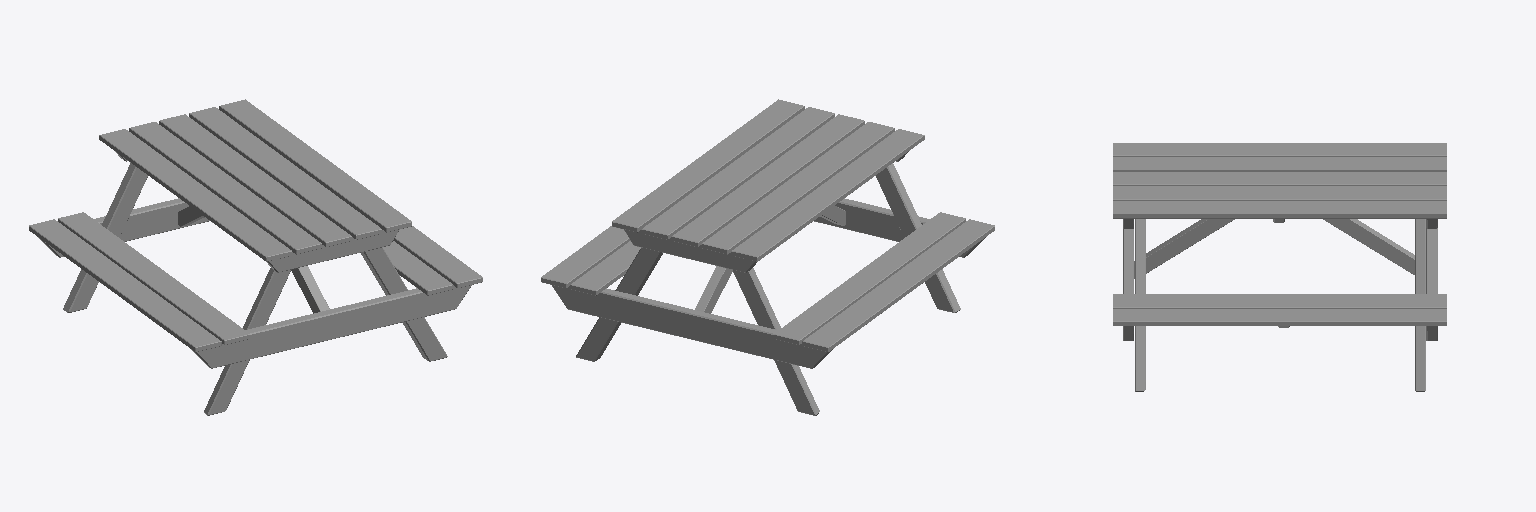
The model's file is picnic_table0.obj.
3 renders of one model, left to right at view 1: azimuth 30°, elevation 25°; view 2: azimuth 150°, elevation 25°; view 3: azimuth 270°, elevation 25°, orthographic.
Visible parts, largest first — view 1: pCube13_Untitled.023; view 2: pCube13_Untitled.023; view 3: pCube13_Untitled.023.
Part boxes in pixels (x1,y1,x2,y2): pCube13_Untitled.023: (29,99,482,415); pCube13_Untitled.023: (541,99,994,415); pCube13_Untitled.023: (1113,143,1446,391).
Bounding box in the file's own units: 1.52 × 0.7834 × 1.52.